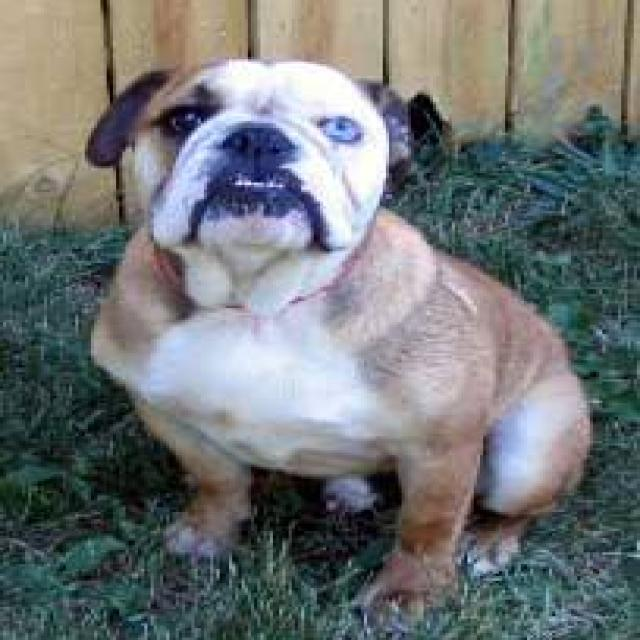dog: (82, 55, 593, 638)
